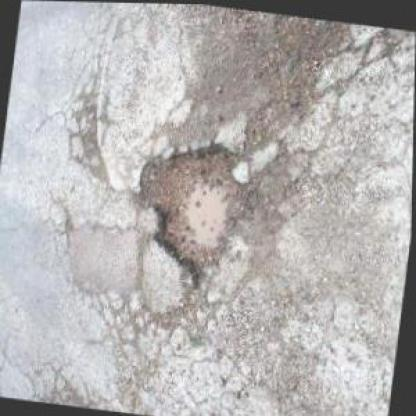pothole: (119, 126, 262, 291)
